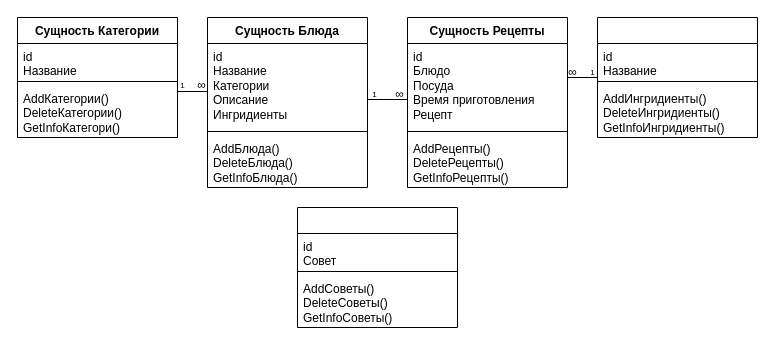
This 775x348 diagram has some shape labels left out. The shapes that lost their labels are listed below. From the top down, each one's box as (x1, y1, x2, y2) in pixels, then its label:
(596, 16, 758, 138): Сущность Ингридиенты
(296, 206, 458, 328): Сущность Советы
